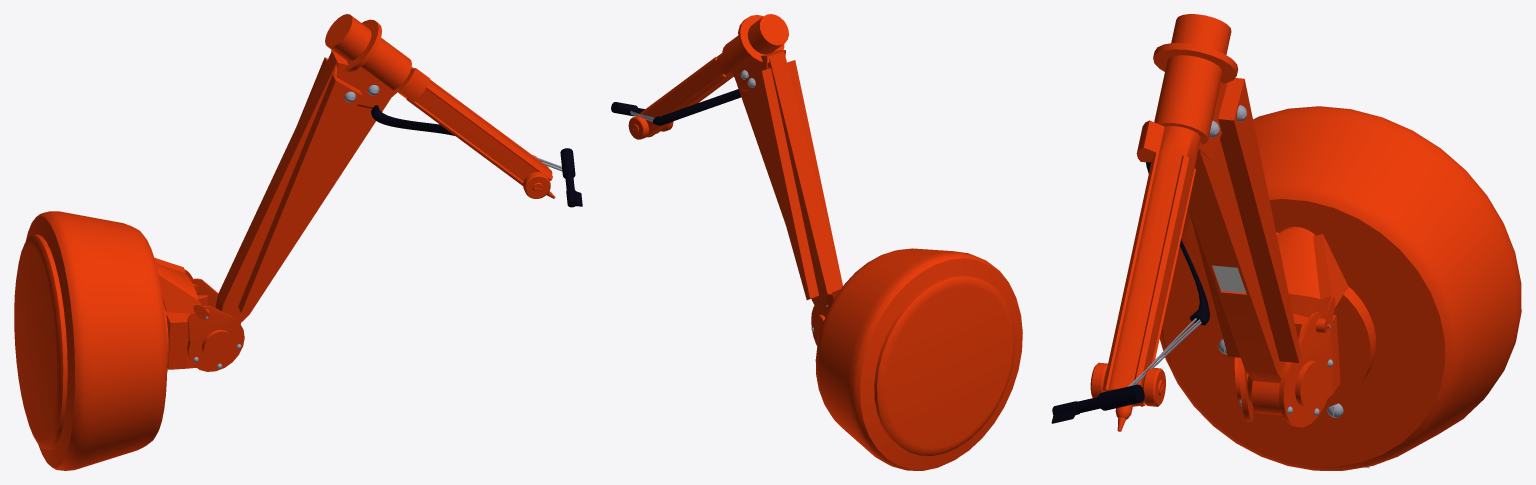
File: Arm without laser.fbx
The picture shows the model from 3 angles, left to right: view 1: azimuth 30°, elevation 25°; view 2: azimuth 150°, elevation 25°; view 3: azimuth 270°, elevation 25°; orthographic projection. The views are drawn at different scales.
Visible parts, largest first — view 1: body; view 2: body; view 3: body.
Part boxes in pixels (x1,y1,x2,y2): body: [14, 14, 582, 470]; body: [611, 14, 1022, 470]; body: [1051, 14, 1521, 470].
Bounding box in the file's own units: 5.6 × 4.6 × 3.25.
